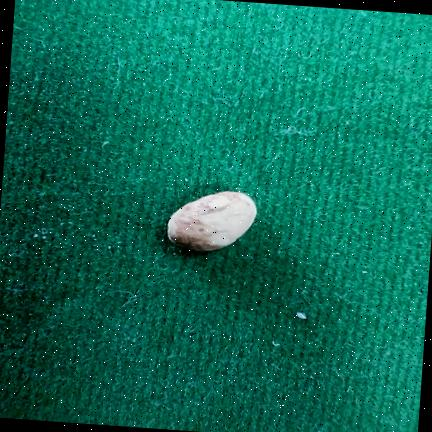shell: (167, 191, 256, 251)
